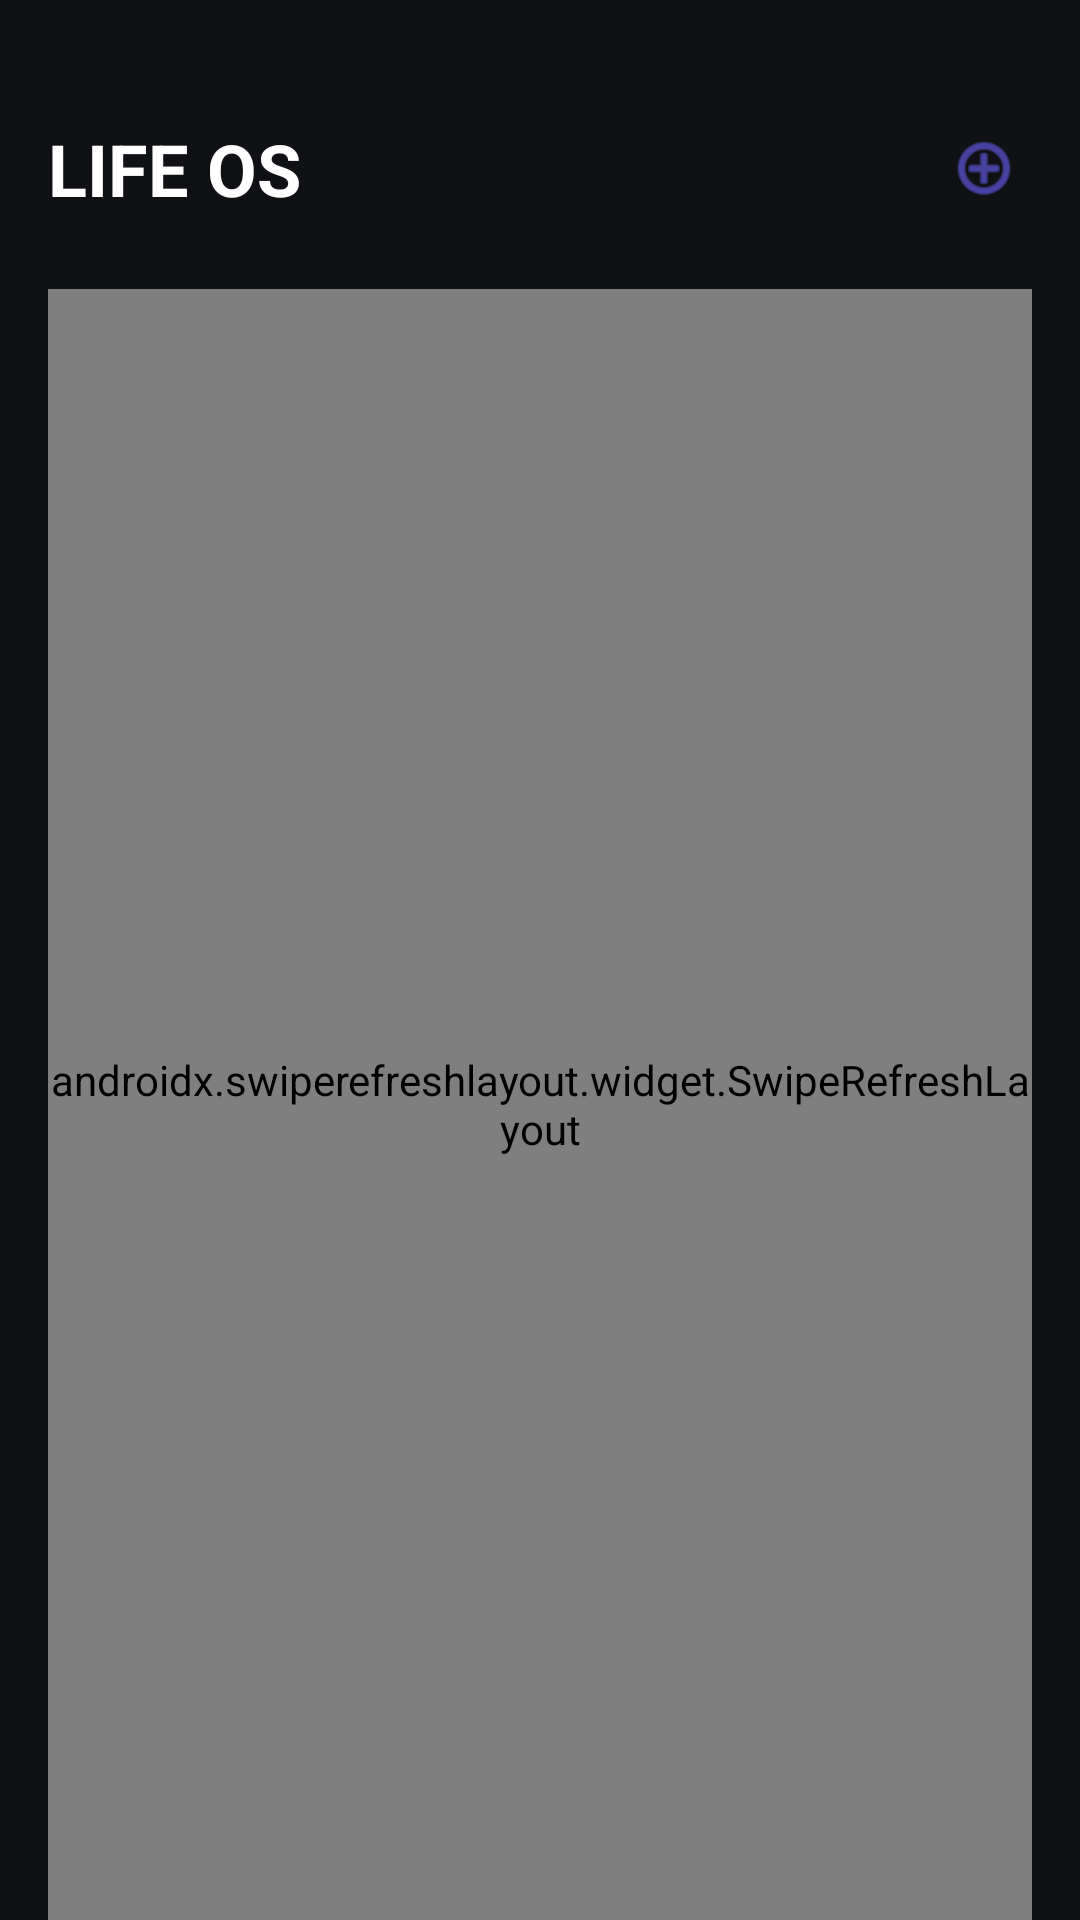

Icons on this 1080×1920 Android screen, each with its box as (x1,y1,x2,y2):
add: (957,142,1011,195)
